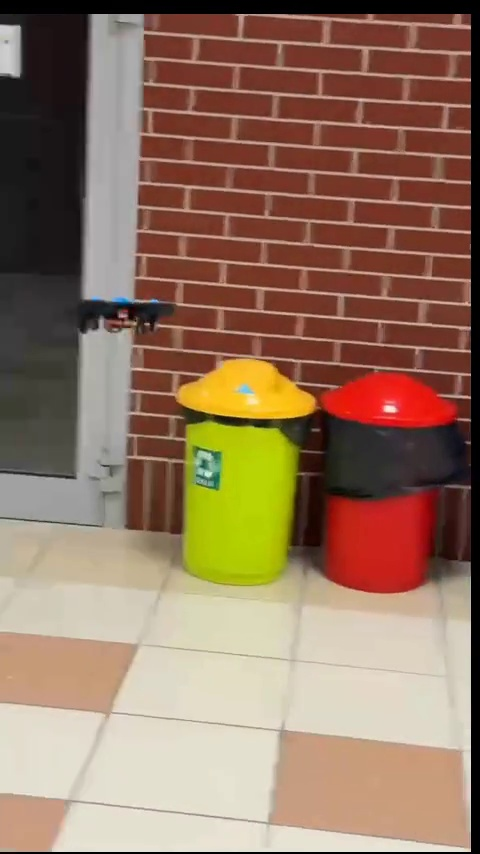drone: (71, 298, 180, 346)
